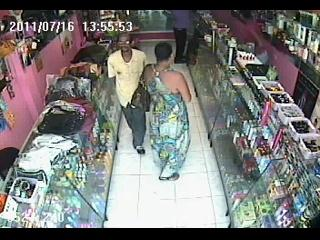Normal: (143, 42, 192, 184), (106, 33, 150, 154), (168, 11, 191, 64)
